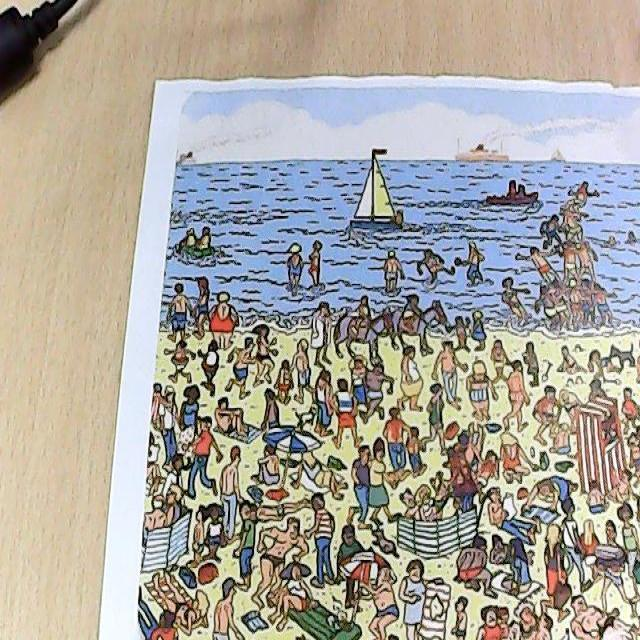waldo: (451, 445, 472, 471)
